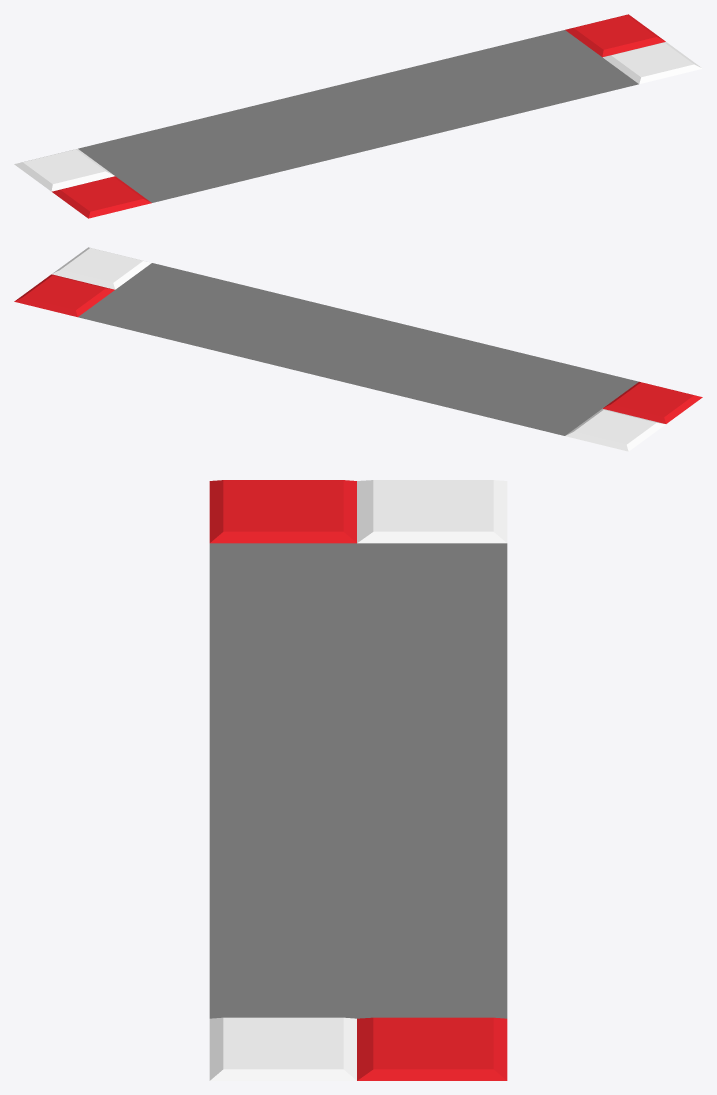
File: track_curb.obj
3 views of the same model, one above another, from view 1: azimuth 30°, elevation 25°; view 2: azimuth 150°, elevation 25°; view 3: azimuth 270°, elevation 25° (orthographic). The views are drawn at different scales.
Visible parts, largest first — view 1: Plane; view 2: Plane; view 3: Plane.
Part boxes in pixels (left/top/right/bottom): Plane: left=14, top=14, right=702, bottom=218; Plane: left=14, top=247, right=702, bottom=451; Plane: left=209, top=480, right=507, bottom=1080.
Size of the model in its own units: 9.63 by 0.047 by 2.02.
